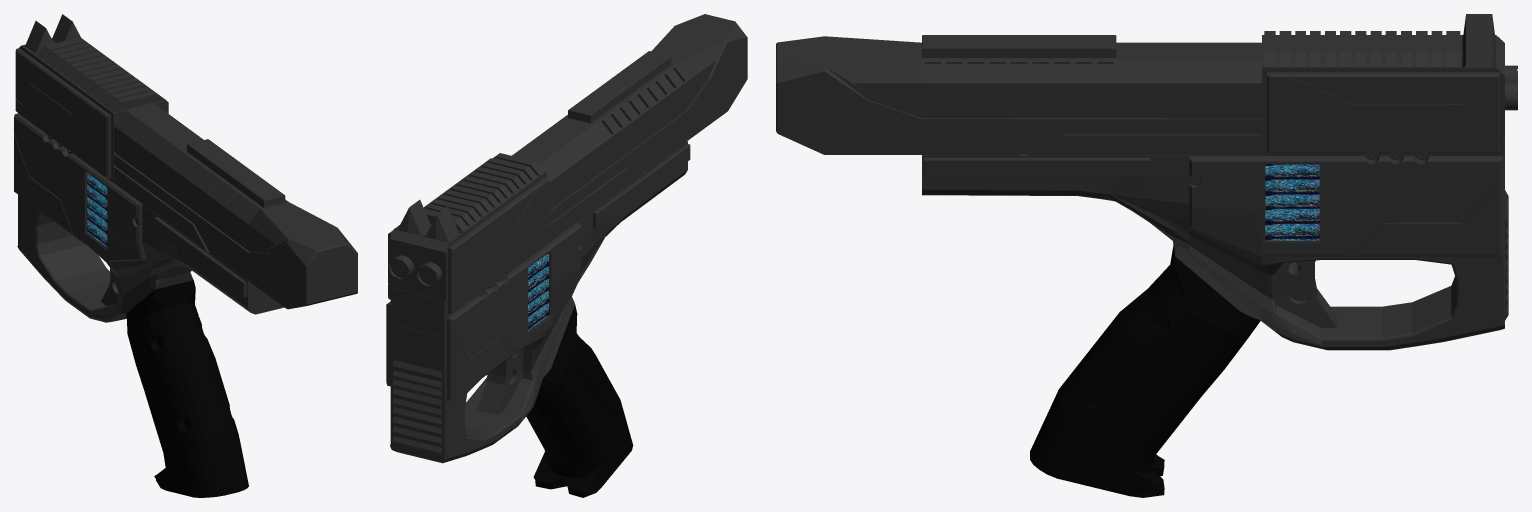
Rendered from J-UZI-4.2mm.glb.
The picture shows the model from 3 angles, left to right: view 1: azimuth 30°, elevation 25°; view 2: azimuth 150°, elevation 25°; view 3: azimuth 270°, elevation 25°; orthographic projection. The views are drawn at different scales.
Parts seen in each view (by area): view 1: Plane.003; view 2: Plane.003; view 3: Plane.003.
Part boxes in pixels (<box>): Plane.003: <box>14,14,357,497</box>; Plane.003: <box>386,14,747,497</box>; Plane.003: <box>776,14,1517,497</box>.
Size of the model in its own units: 1.91 by 10.43 by 15.26.
